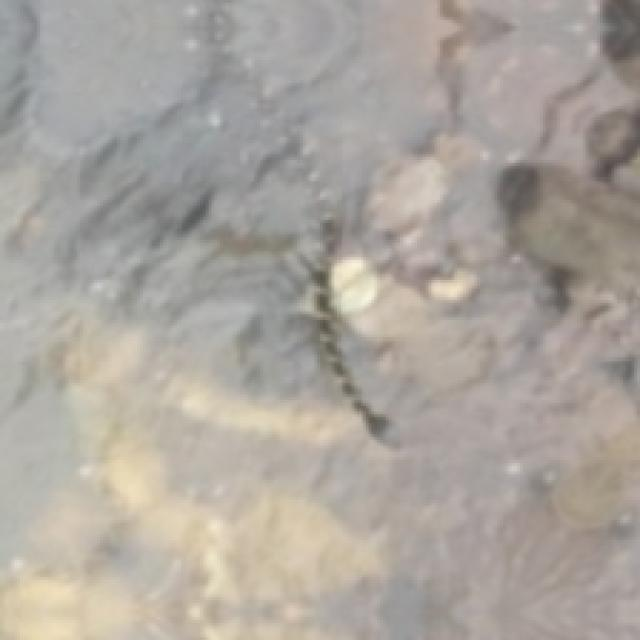mangrove cat snake: (311, 218, 399, 447)
